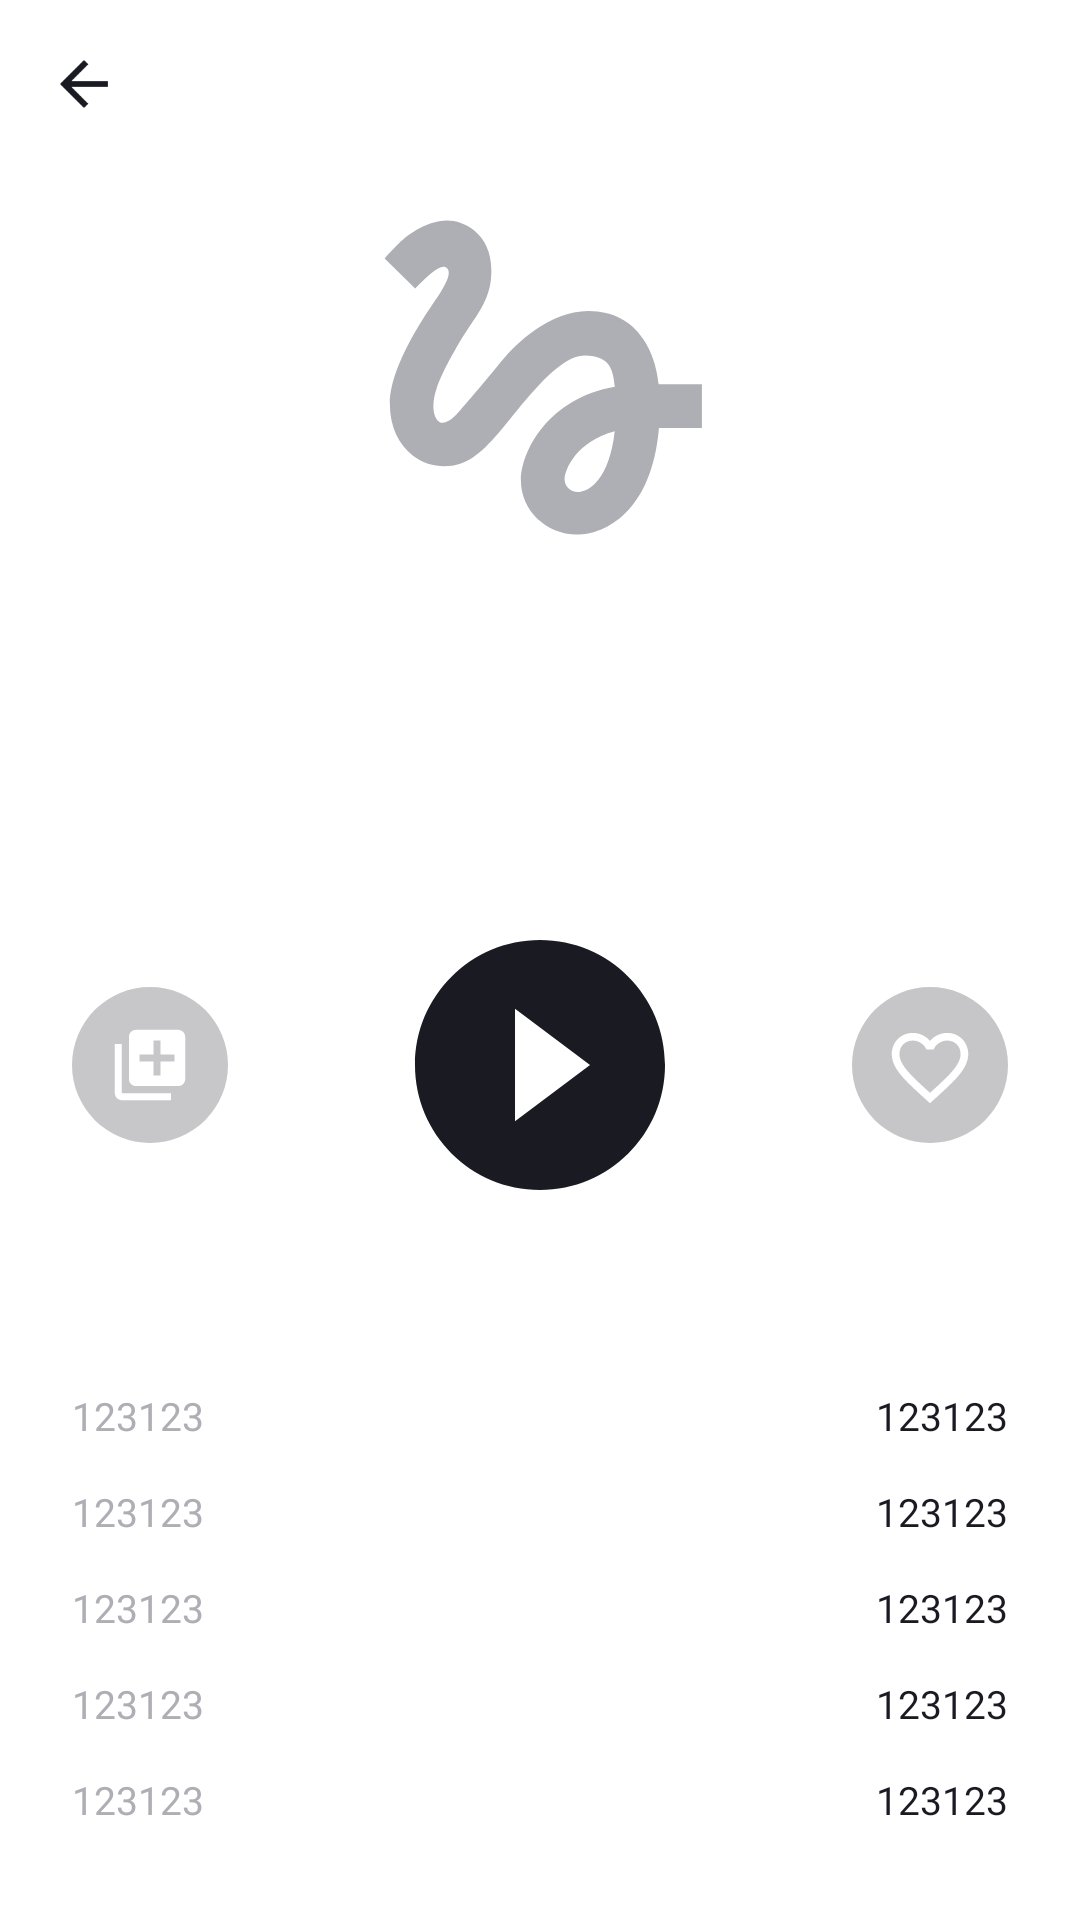

Point at icon controls on the screen. Image size 1080x1920, points as (x=x, y=y).
add to media: (x=150, y=1065)
favourite: (x=930, y=1065)
play: (x=540, y=1065)
